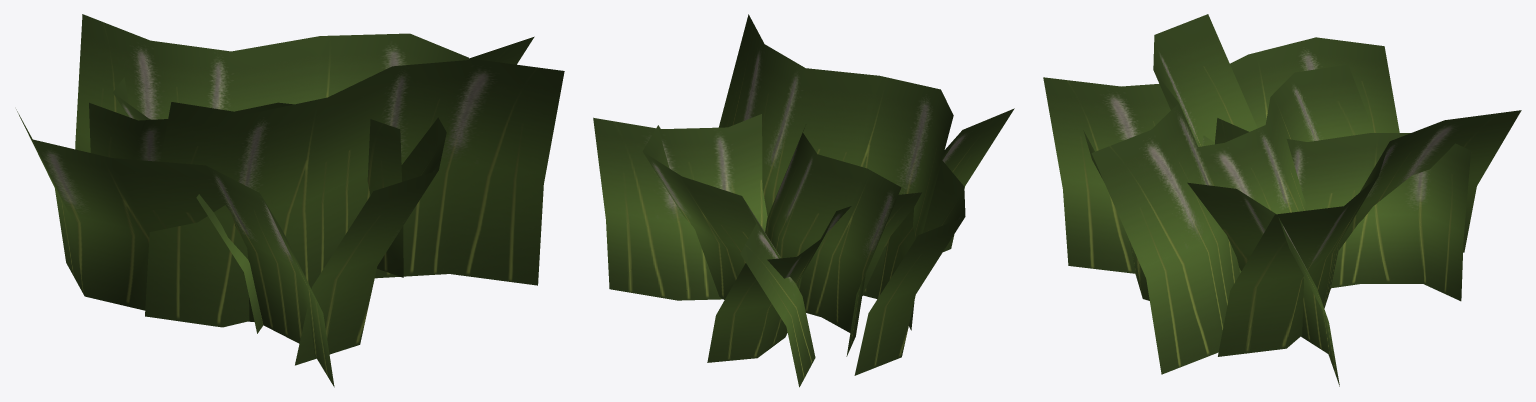
File: Grass_Seedheads.fbx
3 renders of one model, left to right at view 1: azimuth 30°, elevation 25°; view 2: azimuth 150°, elevation 25°; view 3: azimuth 270°, elevation 25°, orthographic. The views are drawn at different scales.
Parts seen in each view (by area): view 1: sead_heads; view 2: sead_heads; view 3: sead_heads.
Boxes of the visible parts, x1,y1,x2,y2 form: sead_heads: [16, 14, 564, 387]; sead_heads: [593, 14, 1014, 387]; sead_heads: [1043, 14, 1521, 386].
Size of the model in its own units: 89.93 by 44.58 by 87.7.
Materials: 1 (1 with a texture image).
